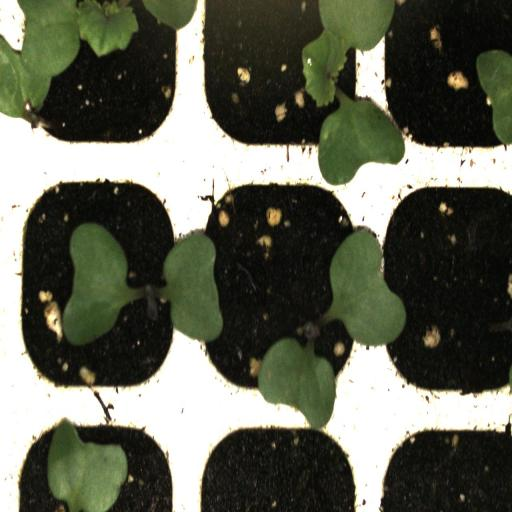noseedling: (374, 179, 512, 410)
seedling: (0, 176, 191, 404), (192, 179, 374, 406), (192, 0, 376, 176)
twoseedling: (0, 0, 191, 175)
weak: (0, 0, 192, 176)
